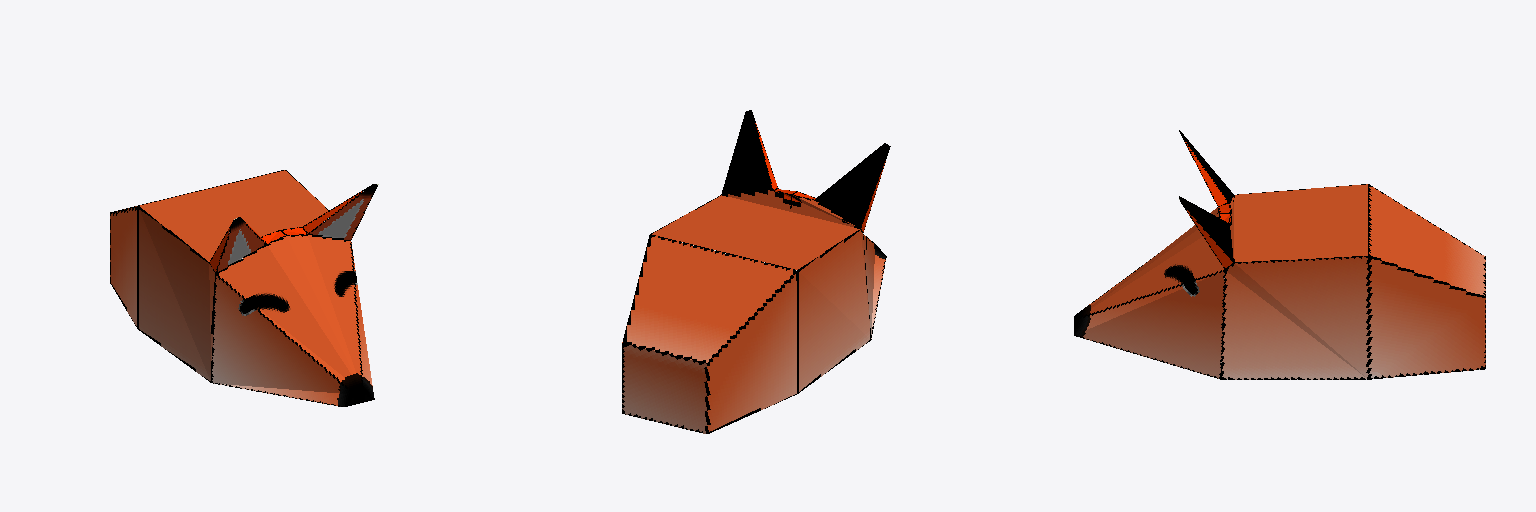
The picture shows the model from 3 angles: view 1: azimuth 30°, elevation 25°; view 2: azimuth 150°, elevation 25°; view 3: azimuth 270°, elevation 25°; orthographic projection.
Visible parts, largest first — view 1: Cube1; view 2: Cube1; view 3: Cube1.
Boxes of the visible parts, box(x1,y1,x2,y2) form: Cube1: box(110, 170, 378, 406); Cube1: box(622, 110, 890, 433); Cube1: box(1074, 130, 1485, 379).
Bounding box in the file's own units: 2 × 2.4 × 4.83.
Materials: 2 (1 with a texture image).